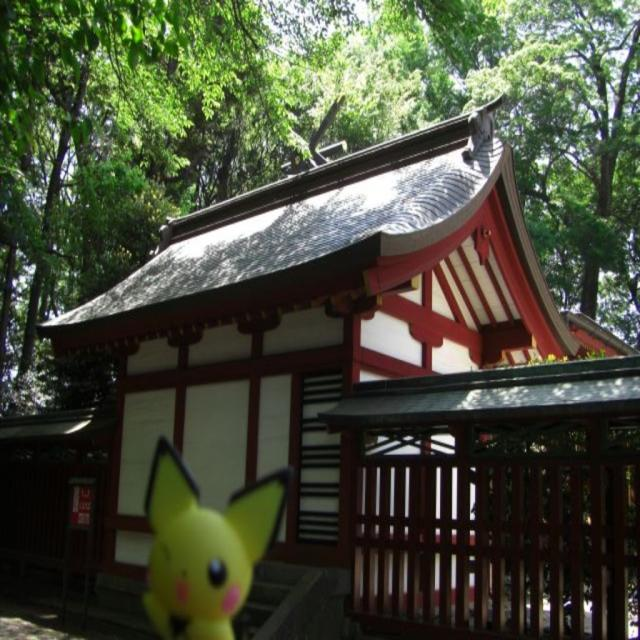Toy: (140, 444, 284, 639)
